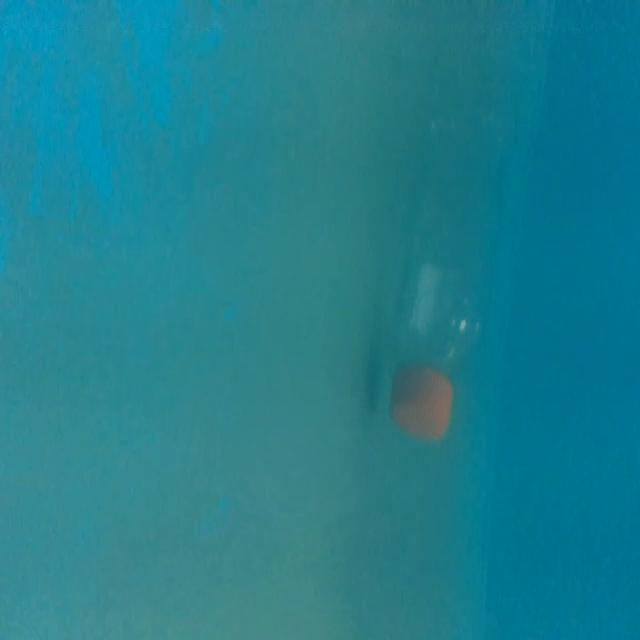plastic bottle: (377, 85, 519, 471)
